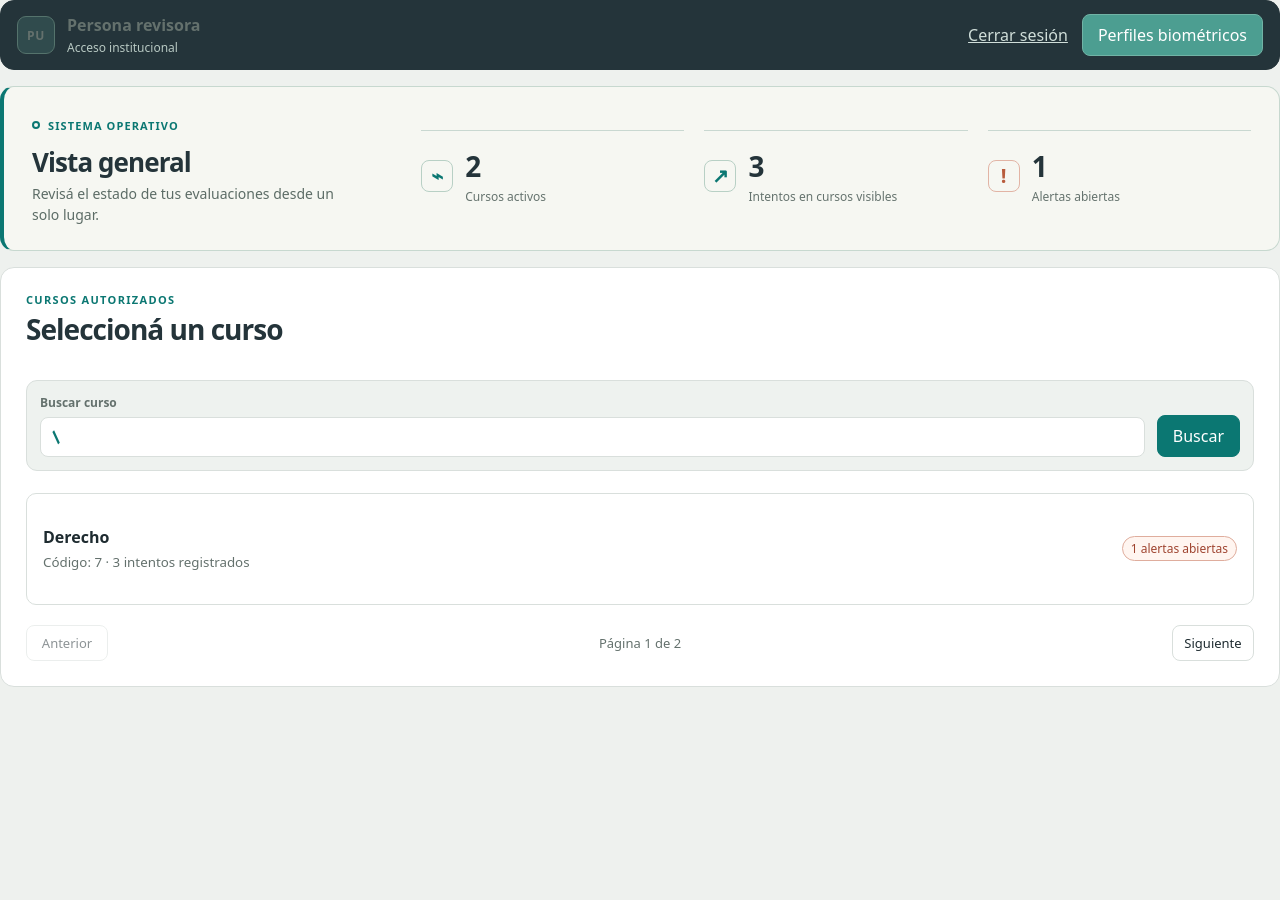
paginates the course catalog for institutional users
Click the button with aria-label "Siguiente curso" at [1213, 643], box [1172,625,1254,661]
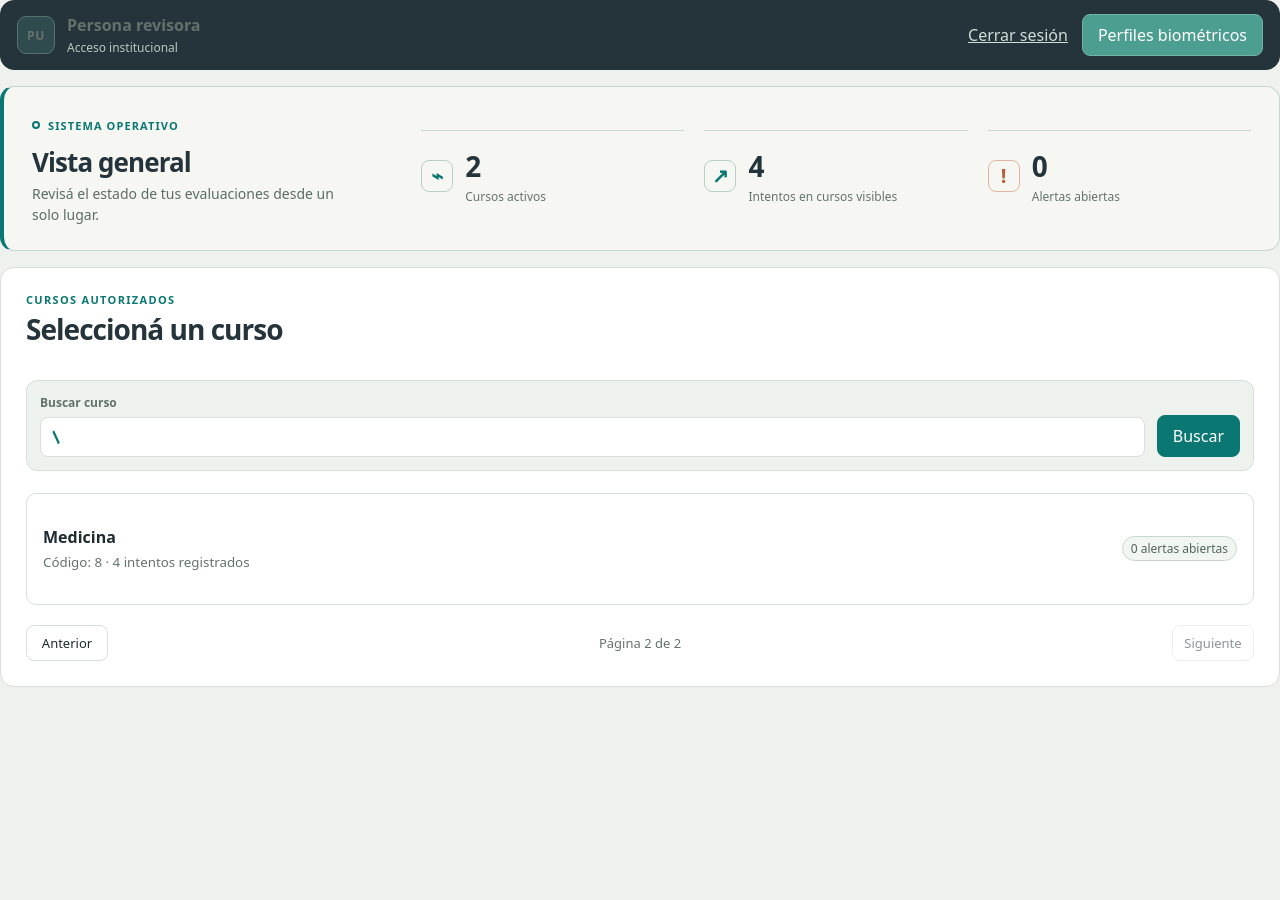
Expected: the button "Medicina" is shown, [26,493,1254,605]
